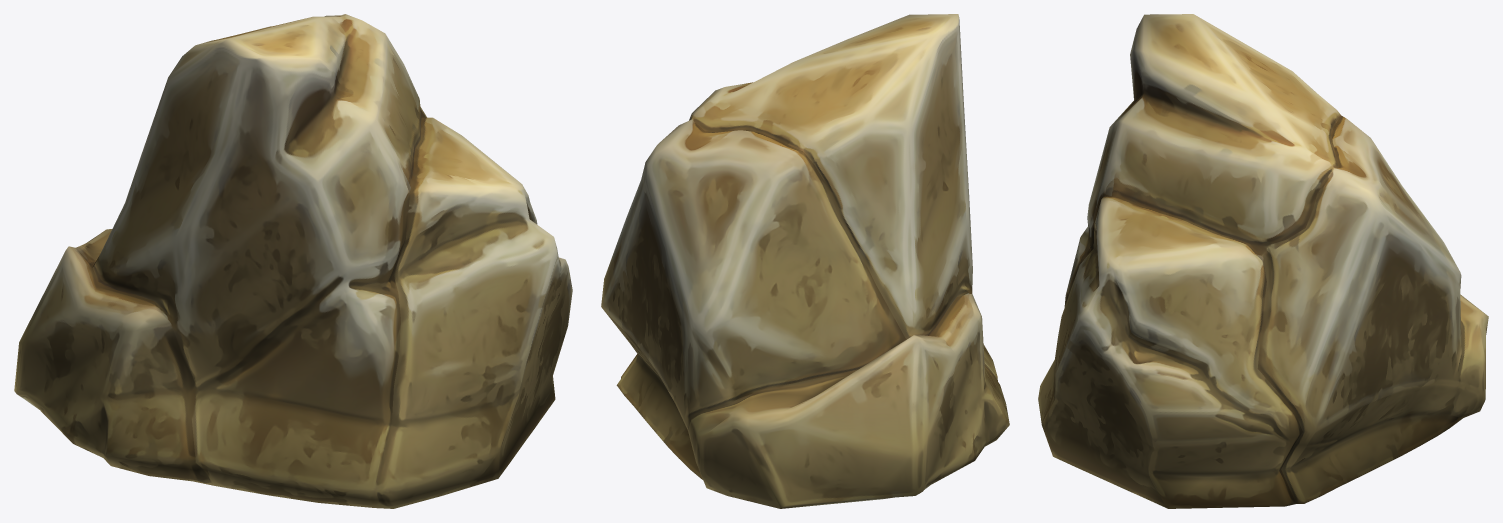
File: rock_01.gltf
3 renders of one model, left to right at view 1: azimuth 30°, elevation 25°; view 2: azimuth 150°, elevation 25°; view 3: azimuth 270°, elevation 25°, orthographic. The views are drawn at different scales.
Visible parts, largest first — view 1: Rock01; view 2: Rock01; view 3: Rock01.
Part boxes in pixels (box(x1,y1,x2,y2)): Rock01: box(14, 14, 572, 508); Rock01: box(601, 14, 1009, 508); Rock01: box(1038, 14, 1488, 508).
Bounding box in the file's own units: 2.05 × 1.99 × 2.22.
Materials: 1 (1 with a texture image).
